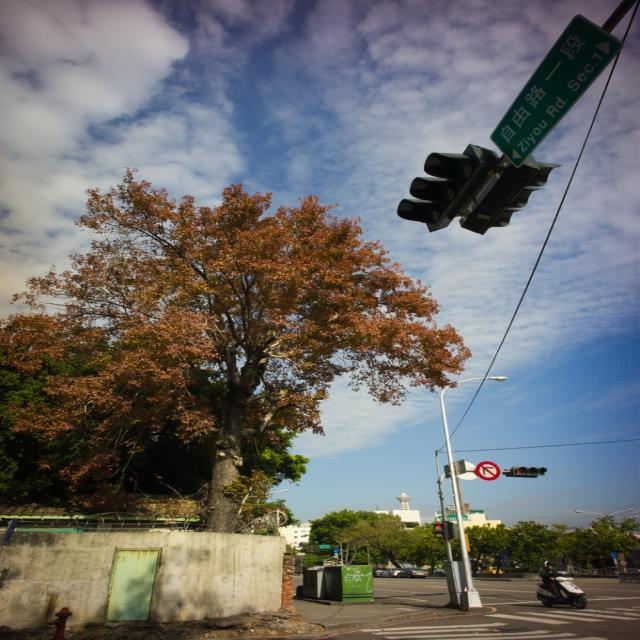road_sign: (478, 462, 497, 480)
traffic light: (511, 466, 548, 478)
